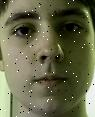without_mask: (1, 2, 95, 117)
